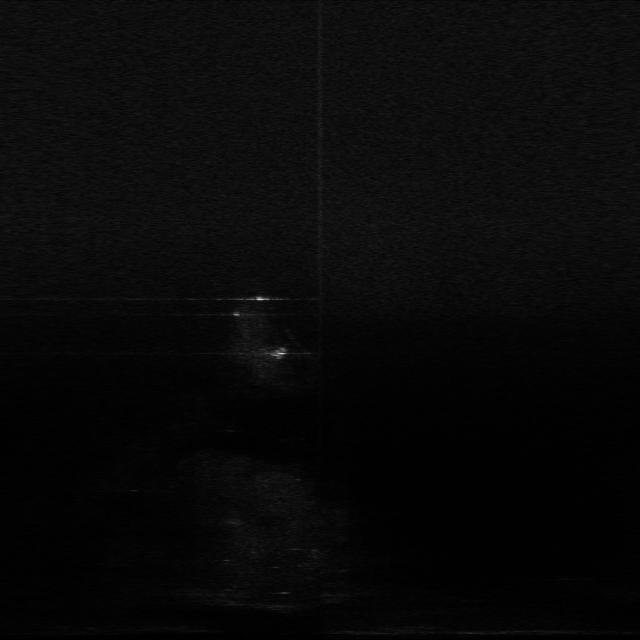rov: (264, 344, 294, 362)
